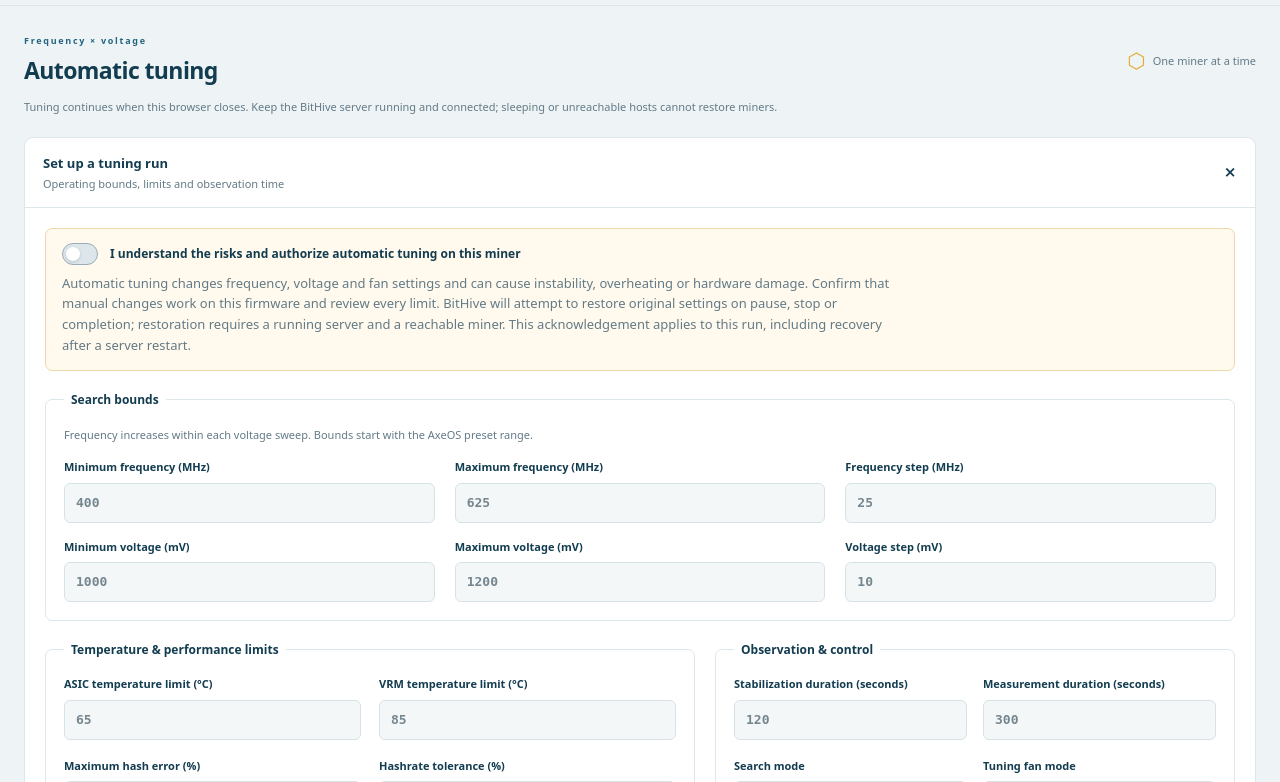
Scenario: physical tuning acknowledgement › requires acknowledgement for each physical run and includes it in the start request
The width and height of the screenshot is (1280, 782).
Check: the number field labelled "Minimum frequency (MHz)" is disabled, box [64,483,435,523]
Click the switch: [80, 254] box [62,242,98,264]
(page scrolled)
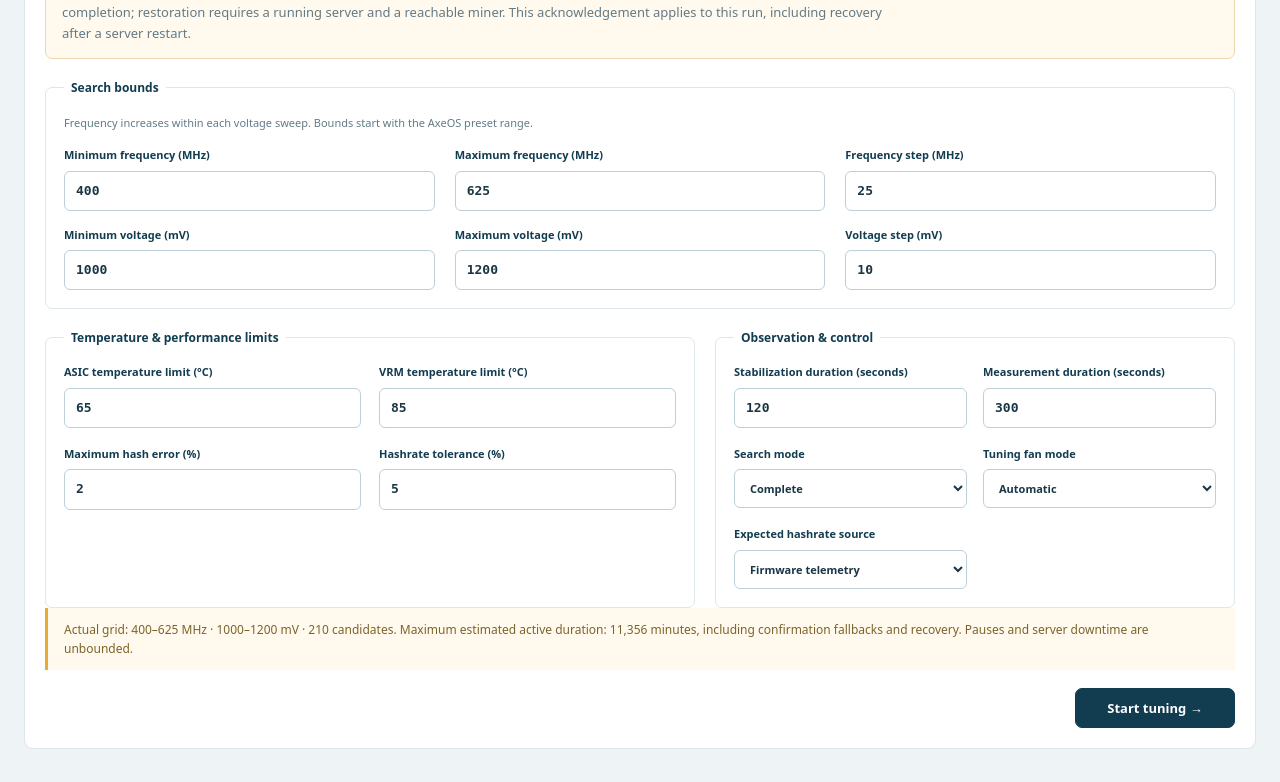
Check: the number field labelled "Minimum frequency (MHz)" is enabled, box [64,171,435,211]
Check: the button "Start tuning →" is enabled
Click the button "Start tuning →": [1155, 708] box [1075,688,1235,728]
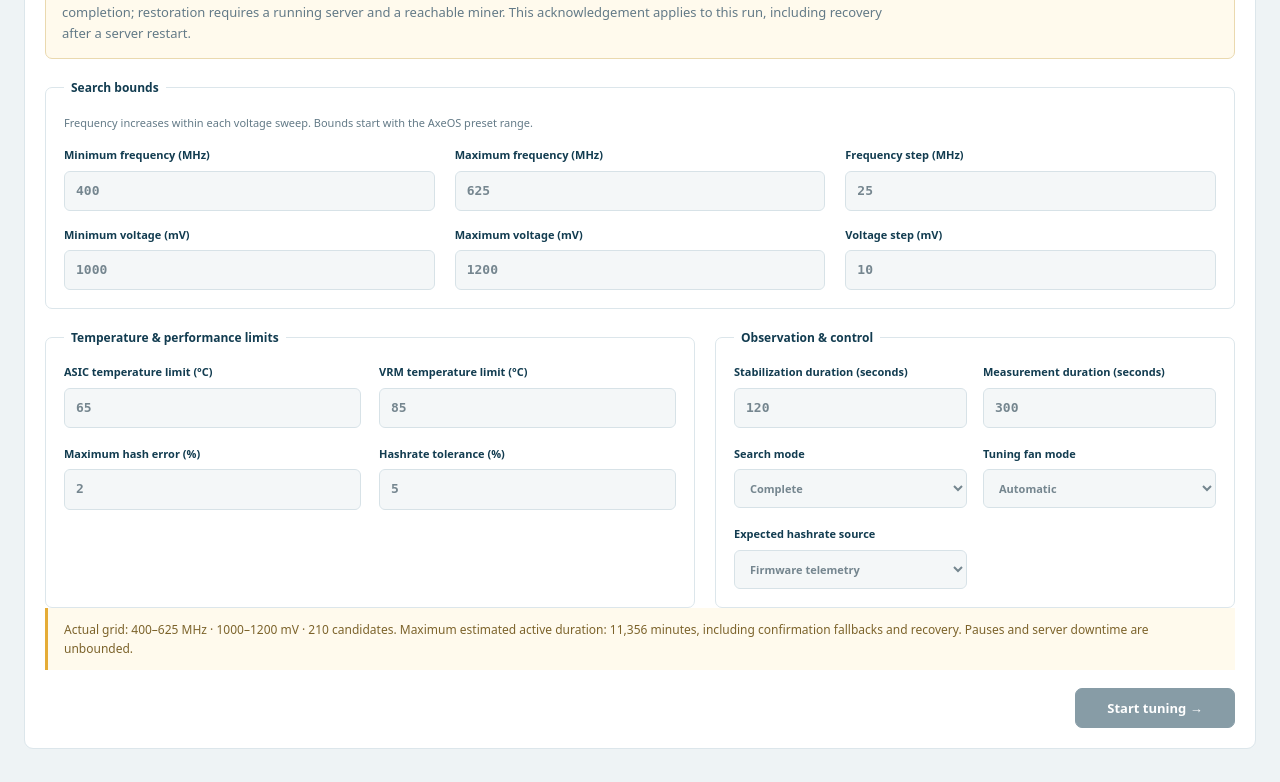
Check: the button "Start tuning →" is disabled, box [1075,688,1235,728]
